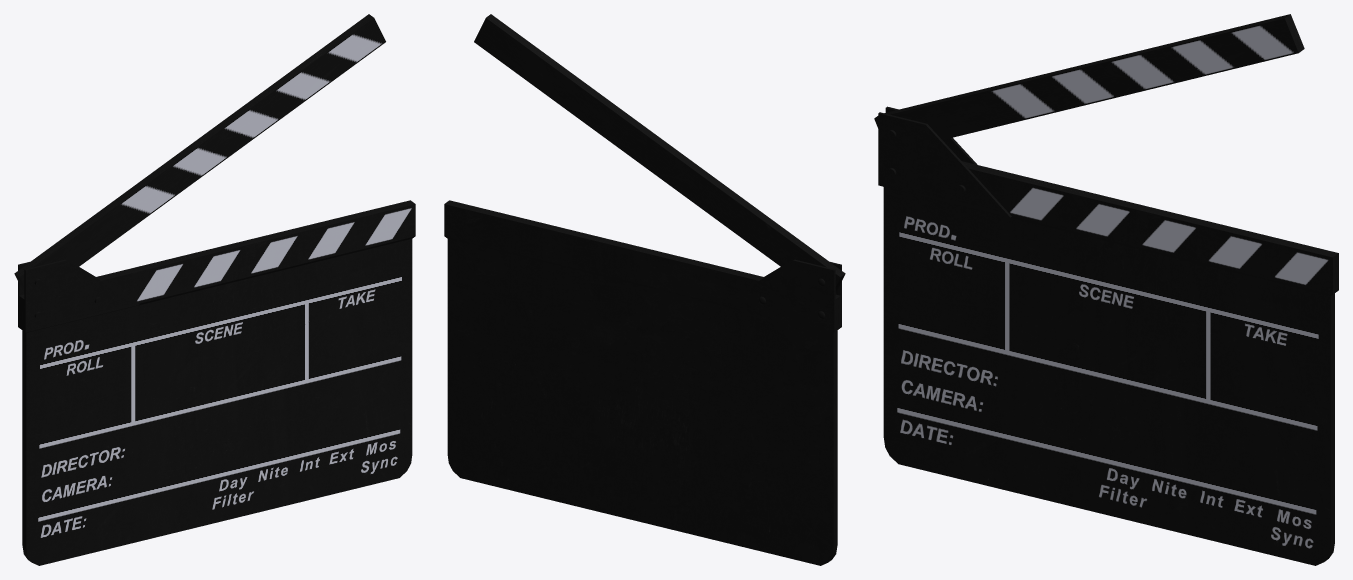
File: Clapperboard.fbx
3 renders of one model, left to right at view 1: azimuth 30°, elevation 25°; view 2: azimuth 150°, elevation 25°; view 3: azimuth 330°, elevation 25°, orthographic. The views are drawn at different scales.
Visible parts, largest first — view 1: Clapperboard, ClapperboardFlap; view 2: Clapperboard, ClapperboardFlap; view 3: Clapperboard, ClapperboardFlap.
Part boxes in pixels (x1,y1,x2,y2): Clapperboard: [18, 200, 415, 565]; ClapperboardFlap: [14, 14, 385, 291]; Clapperboard: [444, 200, 841, 565]; ClapperboardFlap: [474, 14, 845, 291]; Clapperboard: [878, 106, 1338, 565]; ClapperboardFlap: [874, 14, 1304, 139].
Bounding box in the file's own units: 0.355 × 0.3999 × 0.0155.
